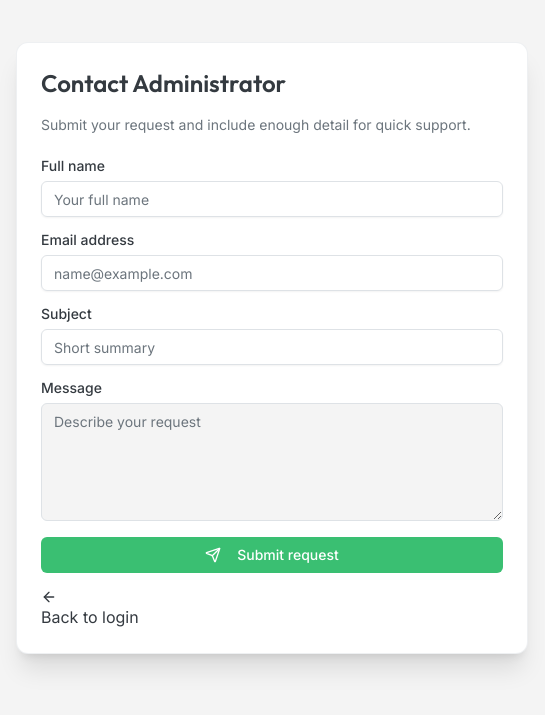
Auth recovery public pages › renders contact administrator page and displays acknowledgement with reference
Expected: the text "Contact Administrator" is shown, [41, 68, 286, 98]
In the field labelled "Full name": [272, 199] box [41, 181, 503, 217], type "John Doe"
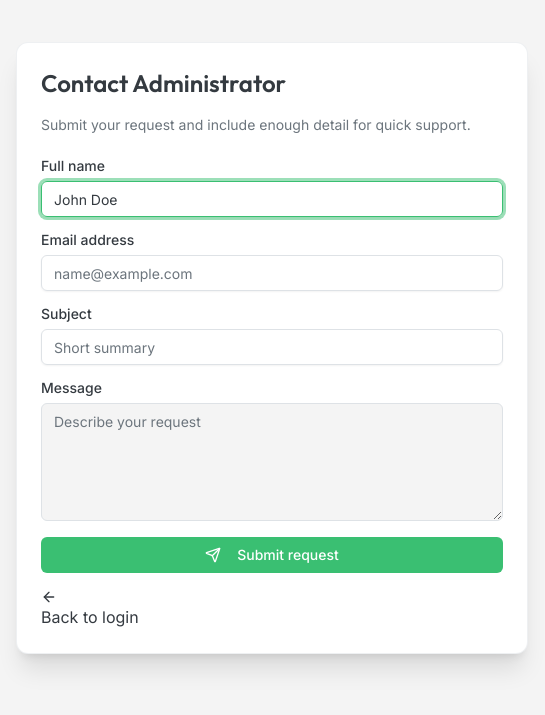
In the field labelled "Email address": [272, 273] box [41, 255, 503, 291], type "john@example.com"
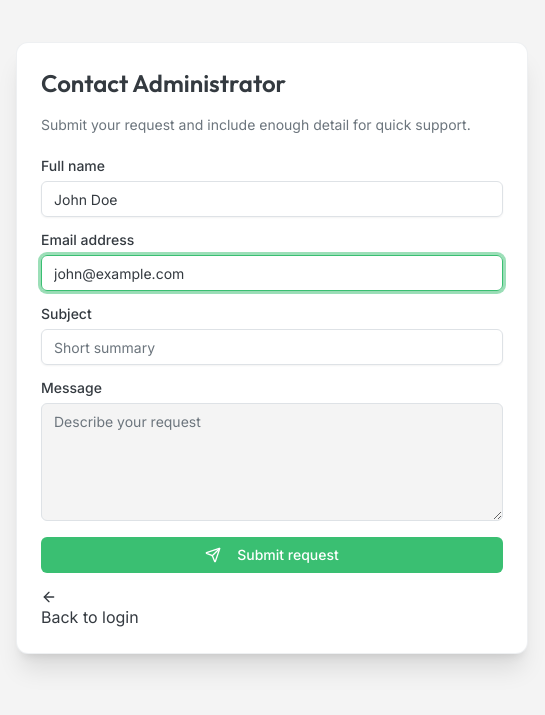
In the field labelled "Subject": [272, 347] box [41, 329, 503, 365], type "Support request"
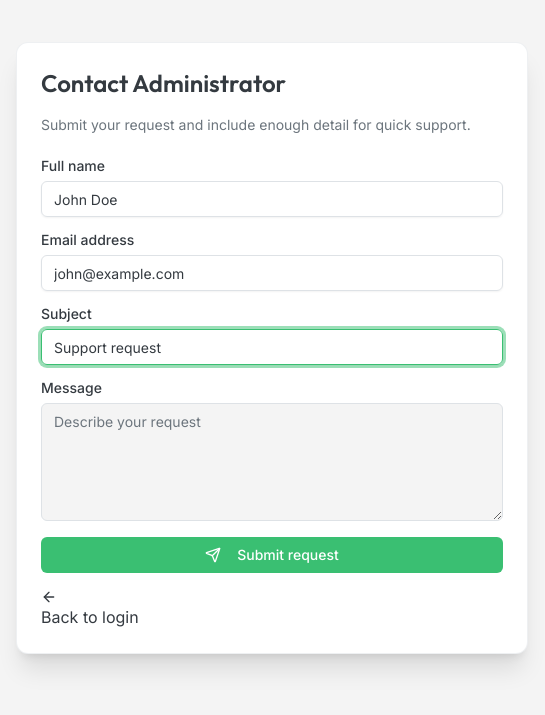
In the text box labelled "Message": [272, 462] box [41, 403, 503, 521], type "I need help with login access today."
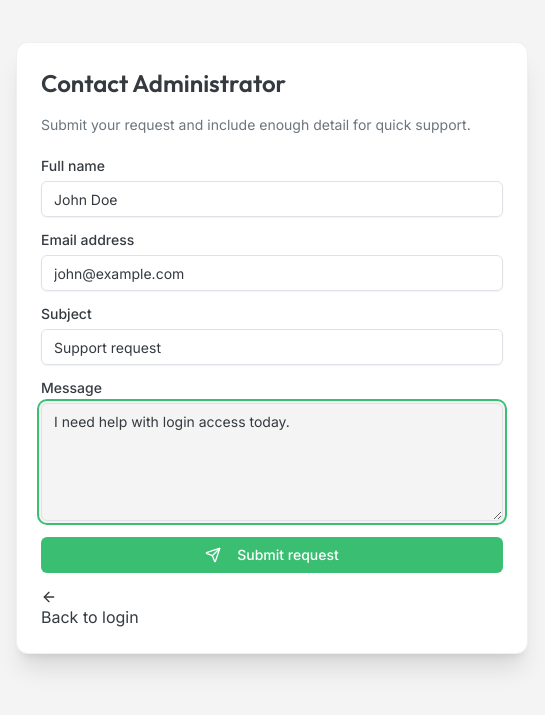
Click the button "Submit request": [272, 555] box [41, 537, 503, 573]
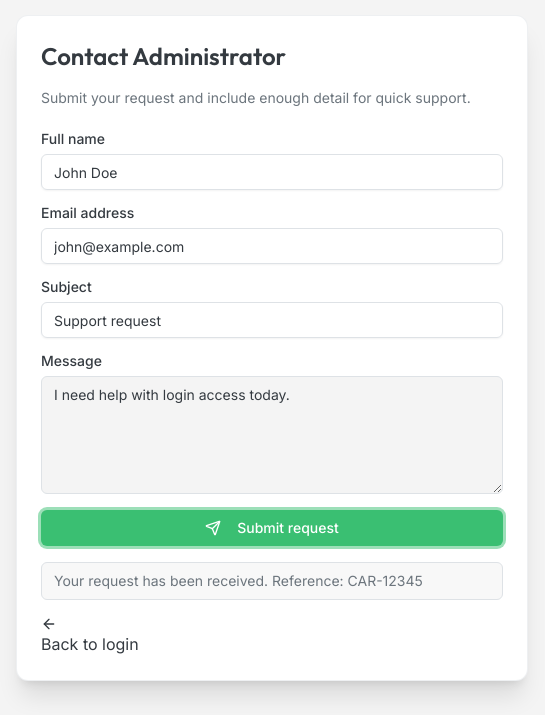
Now the message reads "Your request has been received. Reference: CAR-12345", box [54, 572, 423, 589]
